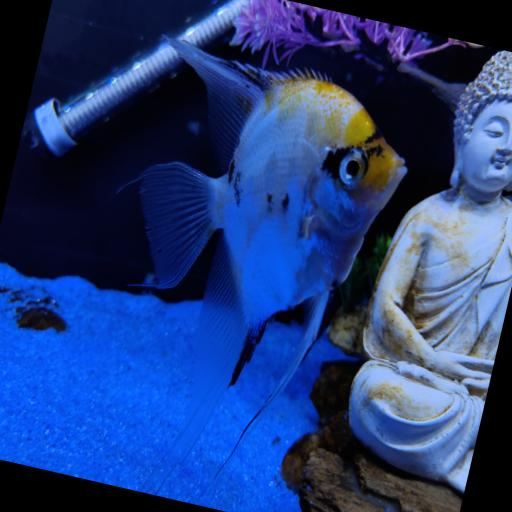Fish: (141, 39, 406, 492)
